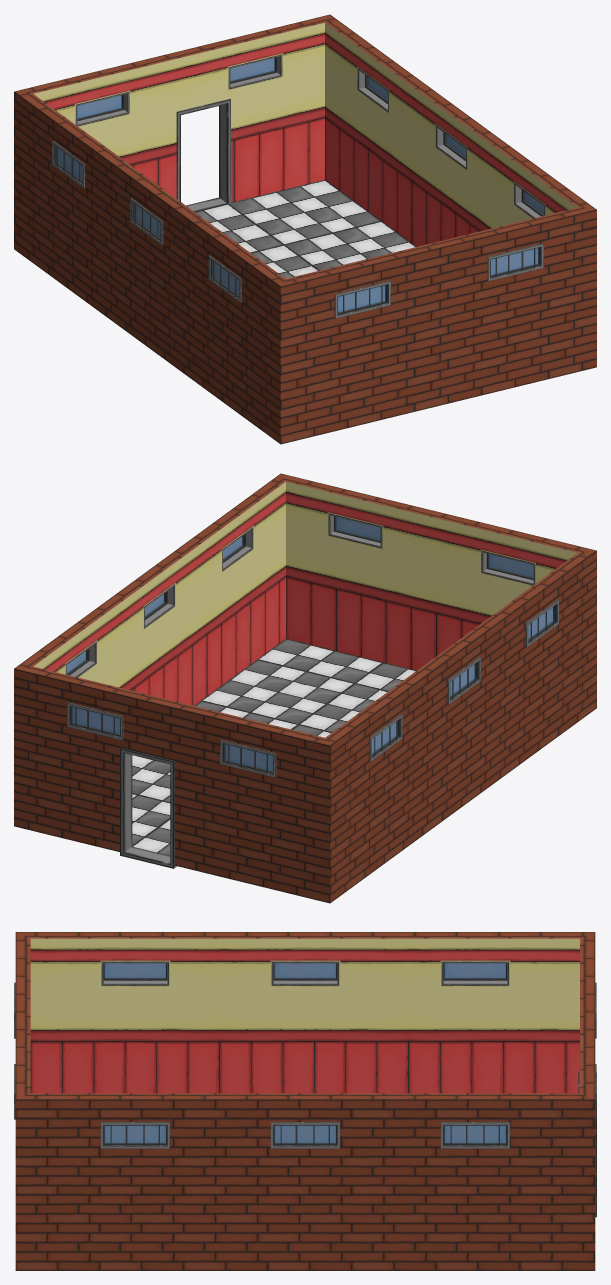
File: House01_Basement.fbx
3 views of the same model, one above another, from view 1: azimuth 30°, elevation 25°; view 2: azimuth 150°, elevation 25°; view 3: azimuth 270°, elevation 25° (orthographic). The views are drawn at different scales.
Parts seen in each view (by area): view 1: House01_Basement.003; view 2: House01_Basement.003; view 3: House01_Basement.003.
Boxes of the visible parts, x1=… form: House01_Basement.003: x1=14, y1=14, x2=596, y2=444; House01_Basement.003: x1=14, y1=473, x2=596, y2=903; House01_Basement.003: x1=14, y1=932, x2=596, y2=1270.
Size of the model in its own units: 655 by 315 by 955.
